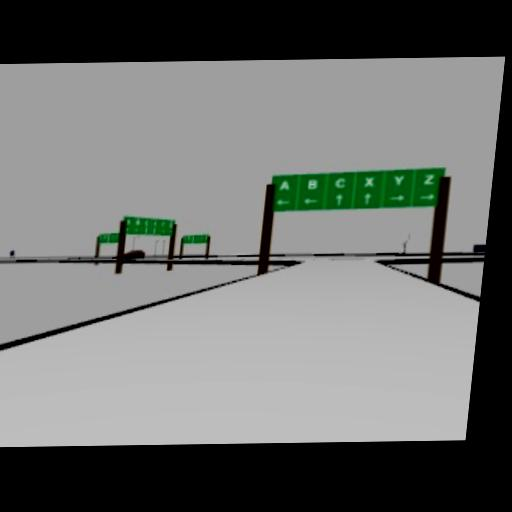A: (278, 179, 291, 192)
B: (307, 179, 319, 191)
C: (334, 177, 347, 189)
Left: (301, 197, 318, 205), (275, 198, 290, 207)
Right: (388, 194, 406, 203), (418, 193, 436, 201)
Straight: (334, 193, 344, 206), (363, 193, 373, 206), (143, 218, 150, 233), (151, 220, 158, 233), (125, 217, 131, 227)
X: (362, 175, 377, 188)
Y: (391, 175, 404, 187)
Z: (422, 173, 436, 186), (157, 220, 167, 234), (135, 219, 141, 227)
